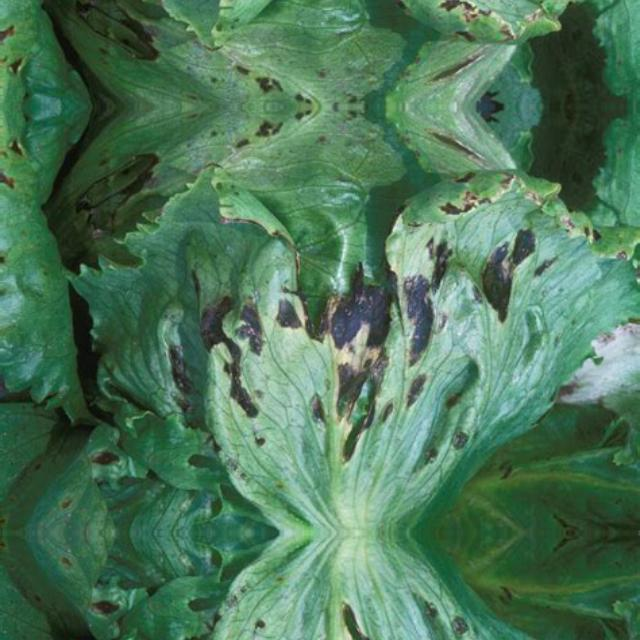Lettuce - Anthracnose: (70, 183, 640, 533), (70, 533, 639, 640), (70, 0, 639, 29)
